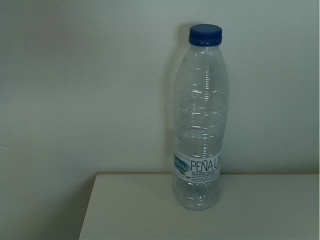botella plastico: (169, 22, 231, 214)
